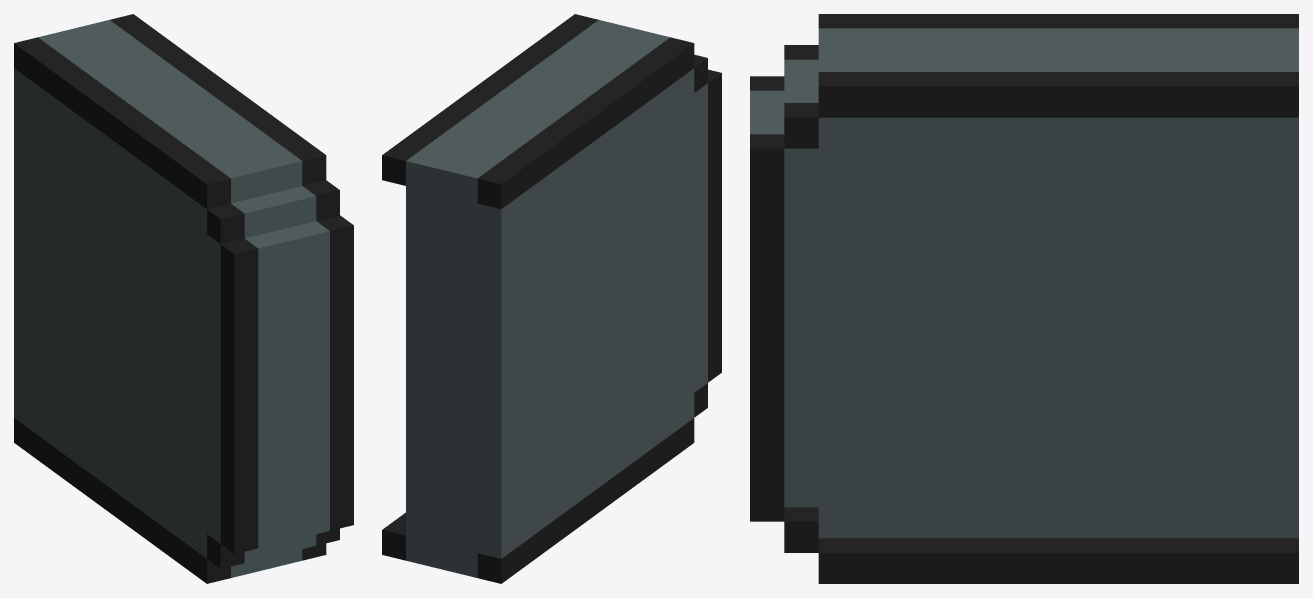
File: BombBoxStrongAngle.obj
3 renders of one model, left to right at view 1: azimuth 30°, elevation 25°; view 2: azimuth 150°, elevation 25°; view 3: azimuth 270°, elevation 25°, orthographic. The views are drawn at different scales.
Bounding box in the file's own units: 0.5 × 1.6 × 1.6.
1 material, 1 textured.
